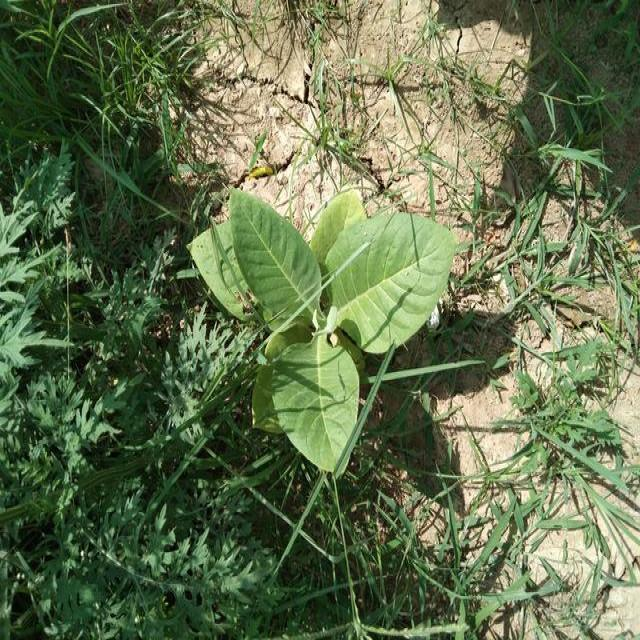crop: (184, 184, 450, 477)
